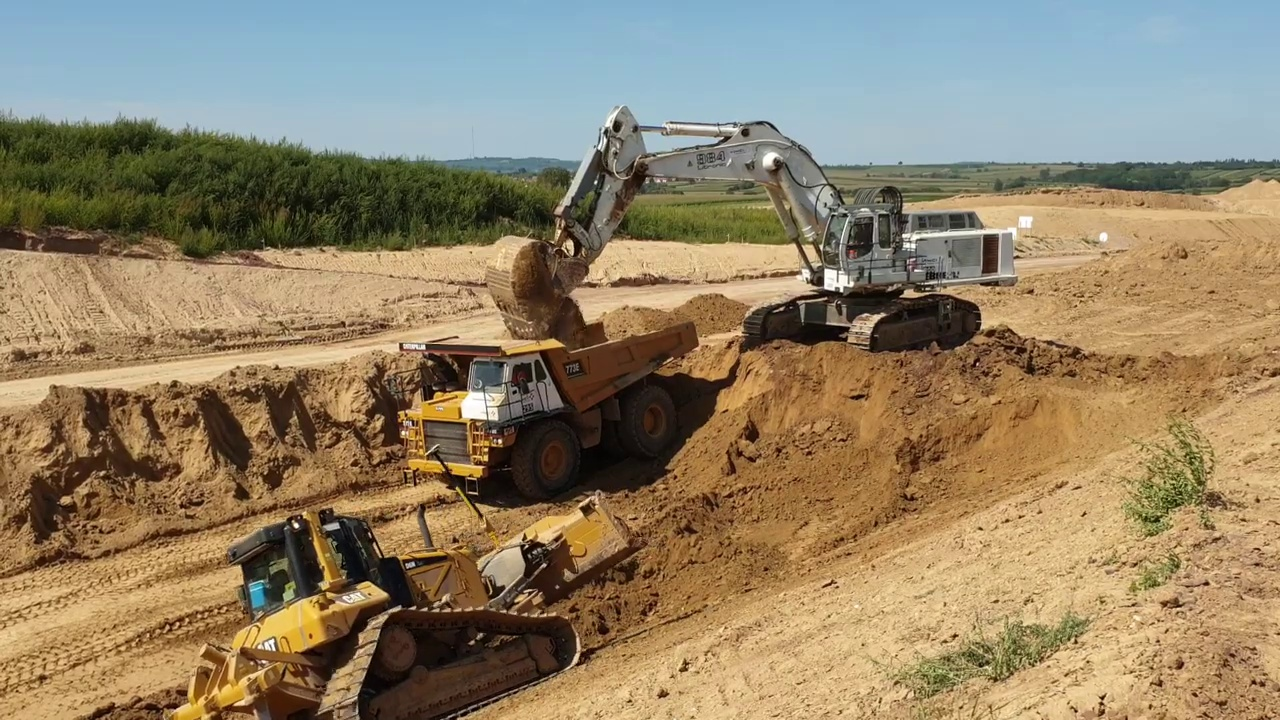bulldozer: (153, 443, 649, 720)
excavator: (481, 99, 1023, 359)
truck: (394, 320, 709, 505)
